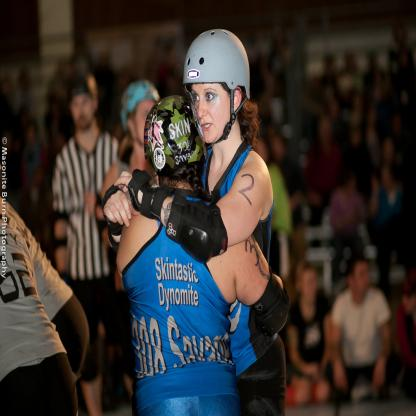Helmet: (182, 25, 252, 149), (144, 95, 204, 177), (120, 77, 159, 151), (66, 73, 98, 129)
